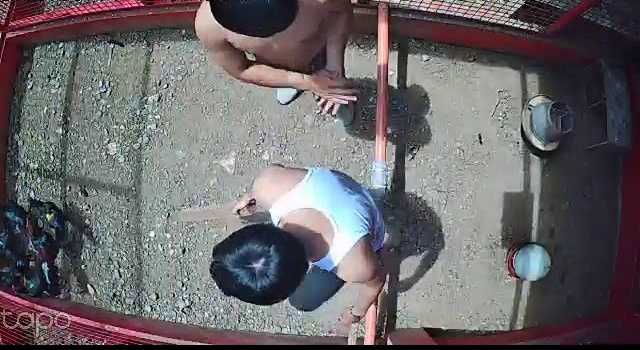Chicken: (27, 192, 79, 245), (1, 193, 52, 241)
Rooster: (19, 217, 75, 296)
Saddle_Color_Yellow: (48, 210, 55, 220)
